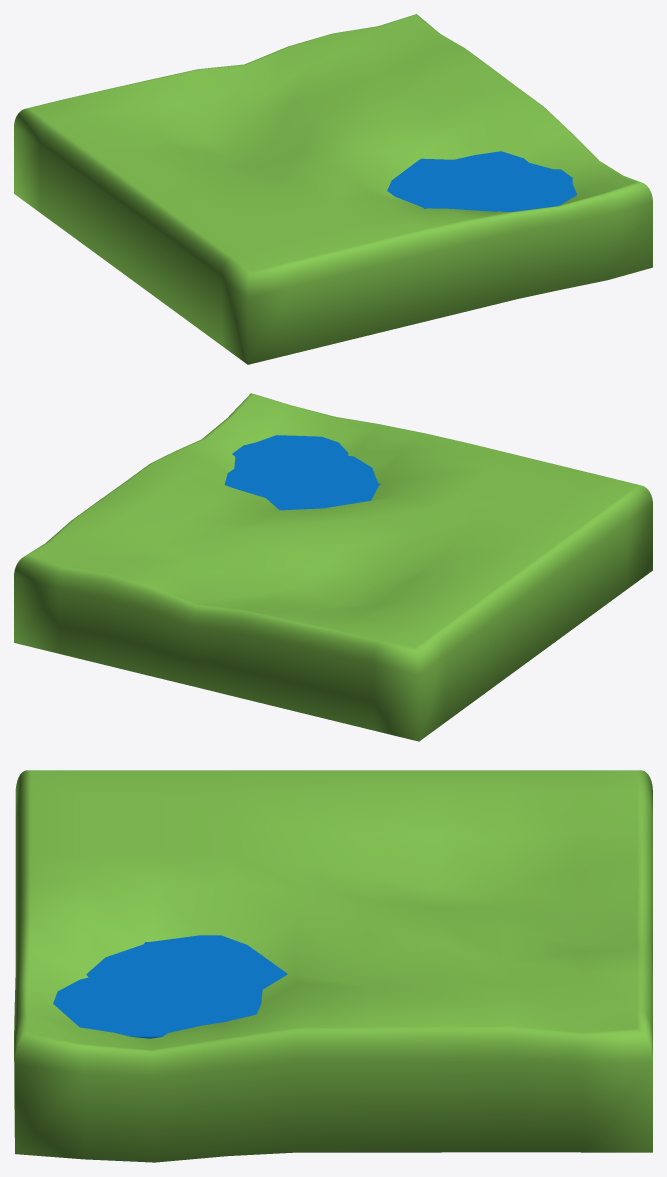
File: land.glb
The picture shows the model from 3 angles, top to bottom: view 1: azimuth 30°, elevation 25°; view 2: azimuth 150°, elevation 25°; view 3: azimuth 270°, elevation 25°; orthographic projection. The views are drawn at different scales.
Visible parts, largest first — view 1: Land, Water; view 2: Land, Water; view 3: Land, Water.
Boxes of the visible parts, <box> form: Land: <box>14,14,652,364</box>; Water: <box>387,151,576,211</box>; Land: <box>14,393,652,741</box>; Water: <box>224,435,380,510</box>; Land: <box>14,770,652,1162</box>; Water: <box>53,935,287,1038</box>.
Bounding box in the file's own units: 8.02 × 1.99 × 8.02.
